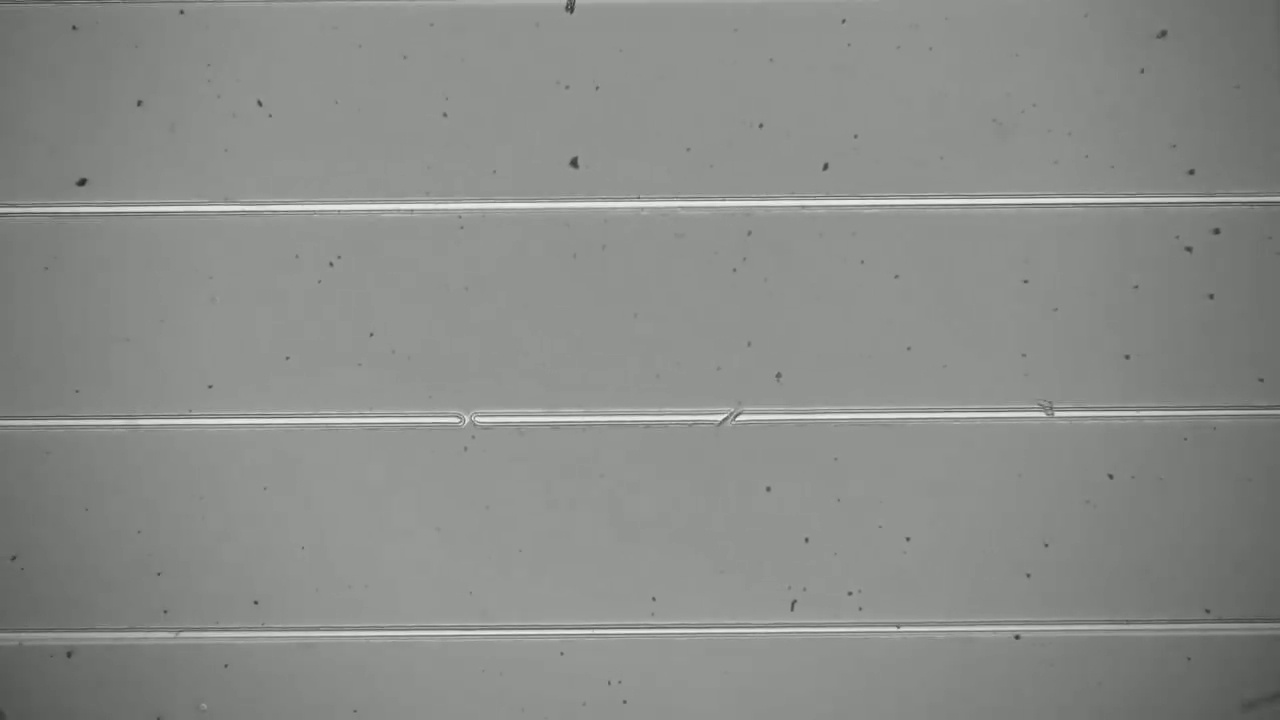open: (446, 400, 490, 440), (712, 400, 750, 433)
stains_enbedded: (1024, 391, 1067, 433)
